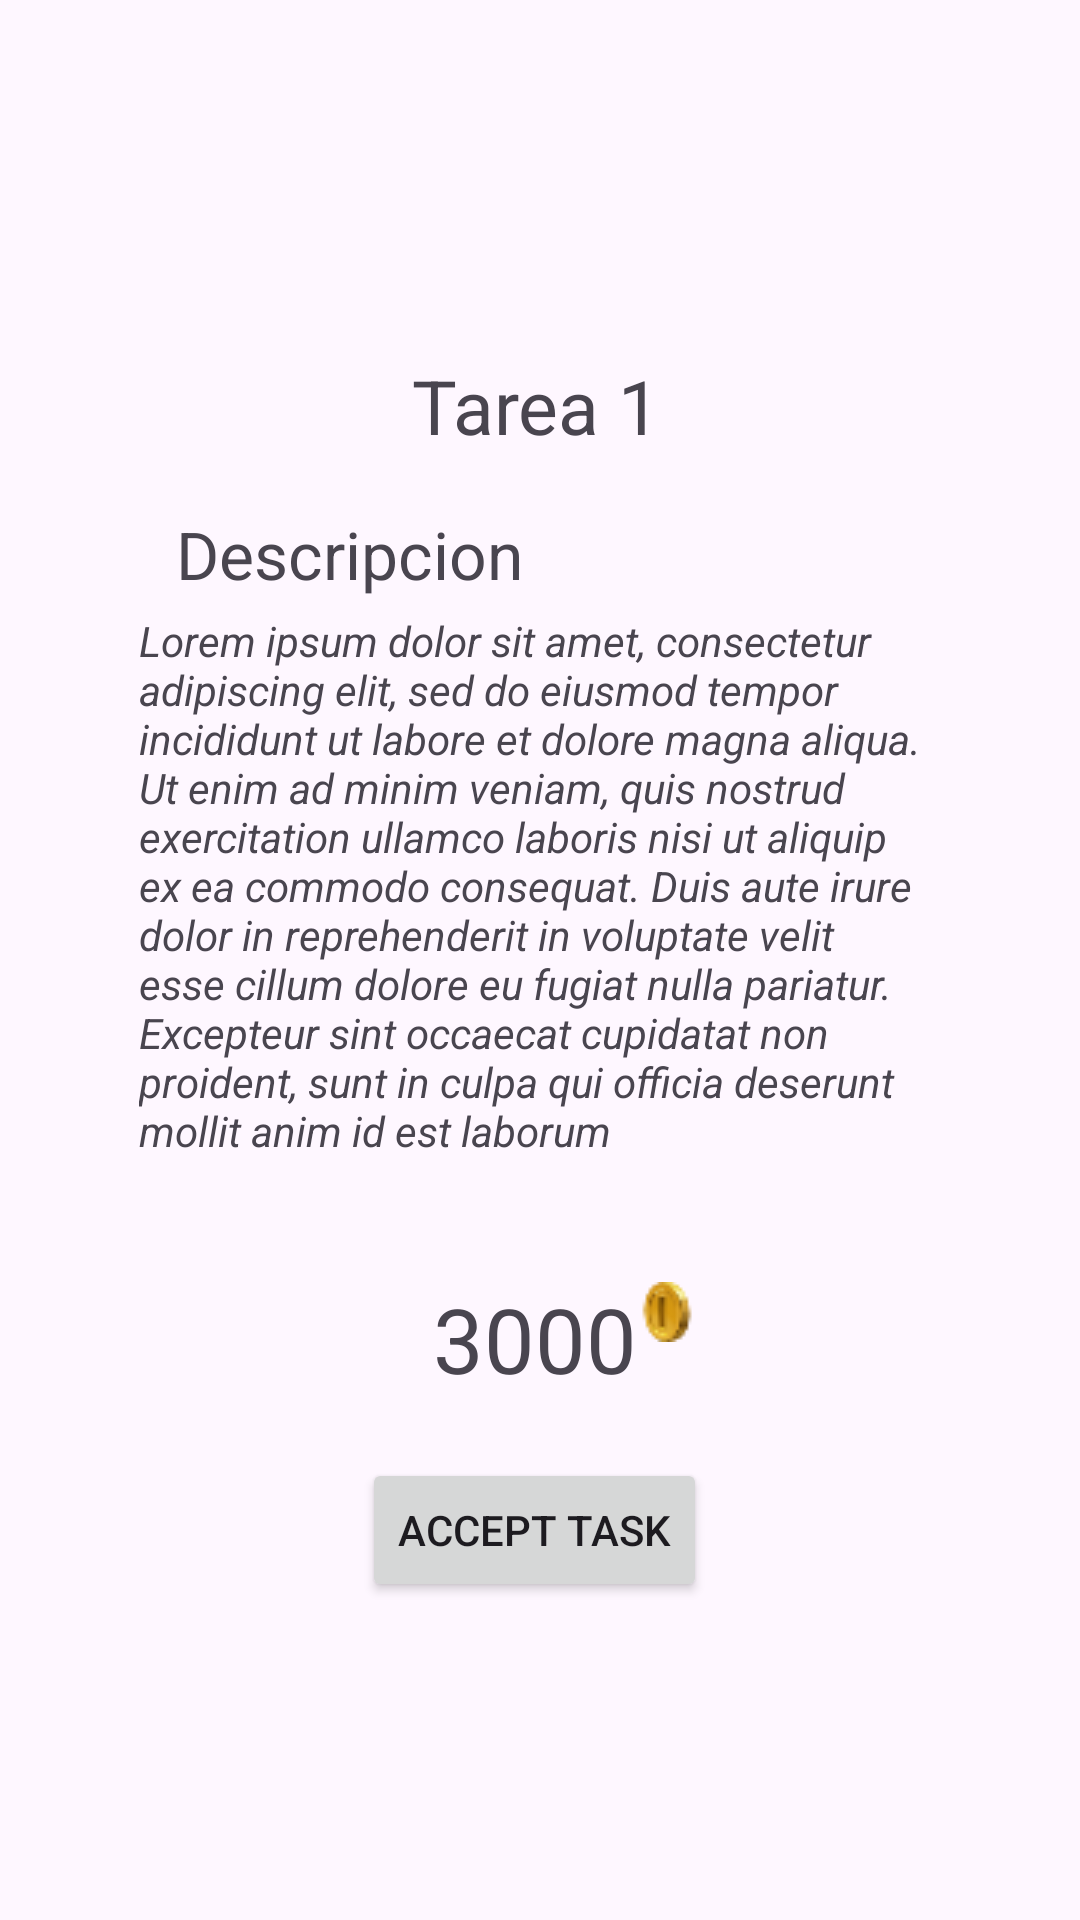

Point at icon controls on the screen. Image size 1080*1920, points as (x=x, y=y).
coin: (x=667, y=1312)
